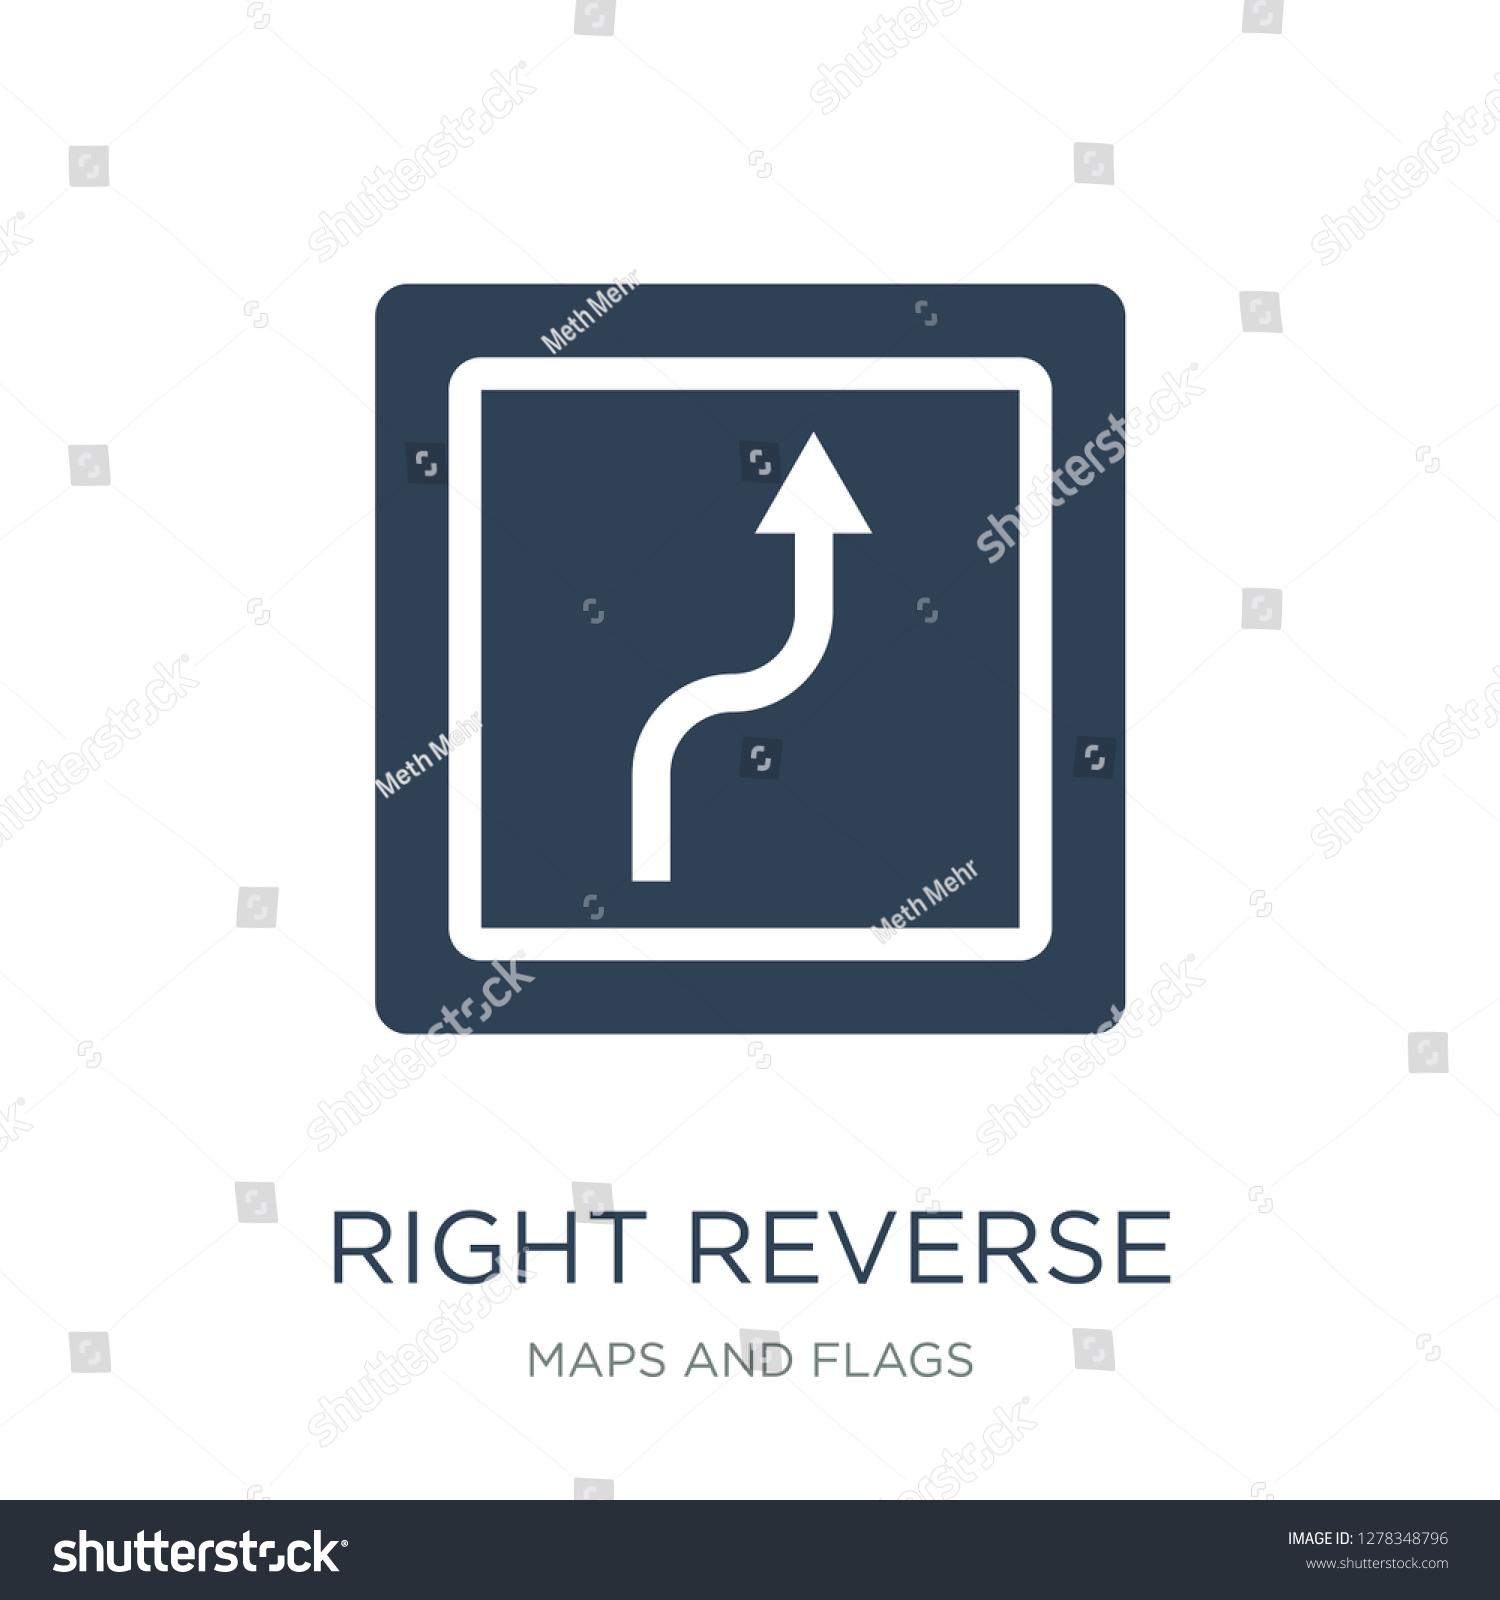Right Reverse Bend: (290, 244, 1173, 1104)
